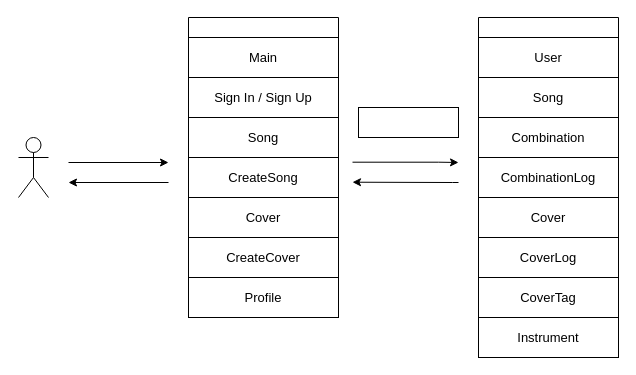
Image size: 636x375. Some labels were removed from this diagram. Each missing label, with the box of its shape:
Client: (18, 136, 48, 198)
Controller: (358, 106, 458, 138)
Model: (478, 16, 618, 358)
View: (188, 16, 338, 318)
